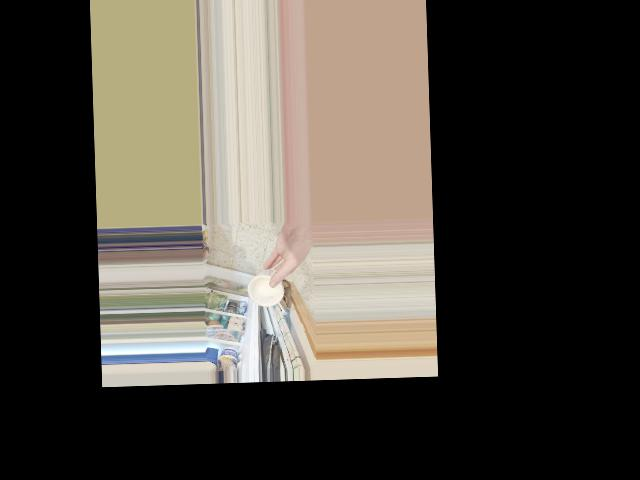cotage: (251, 264, 287, 309)
